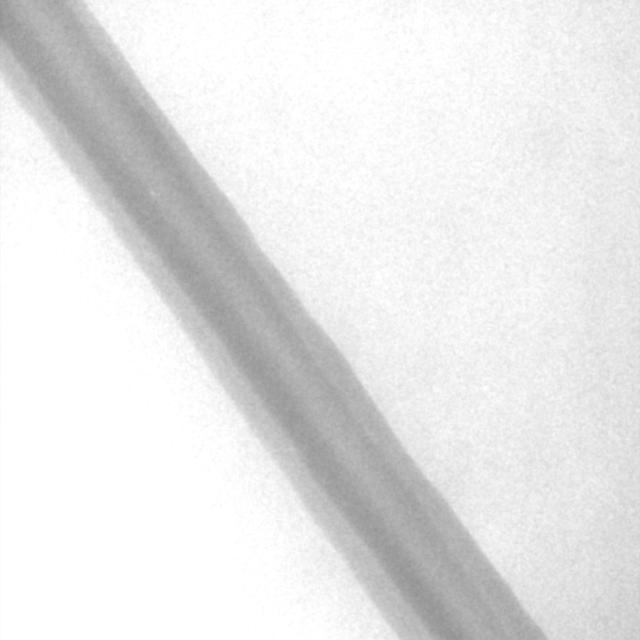air-hole: (148, 189, 154, 198)
